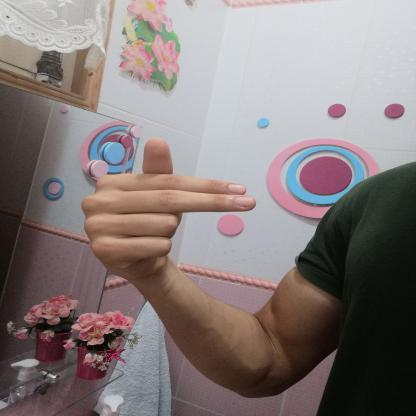GHAYN: (66, 128, 267, 289)
